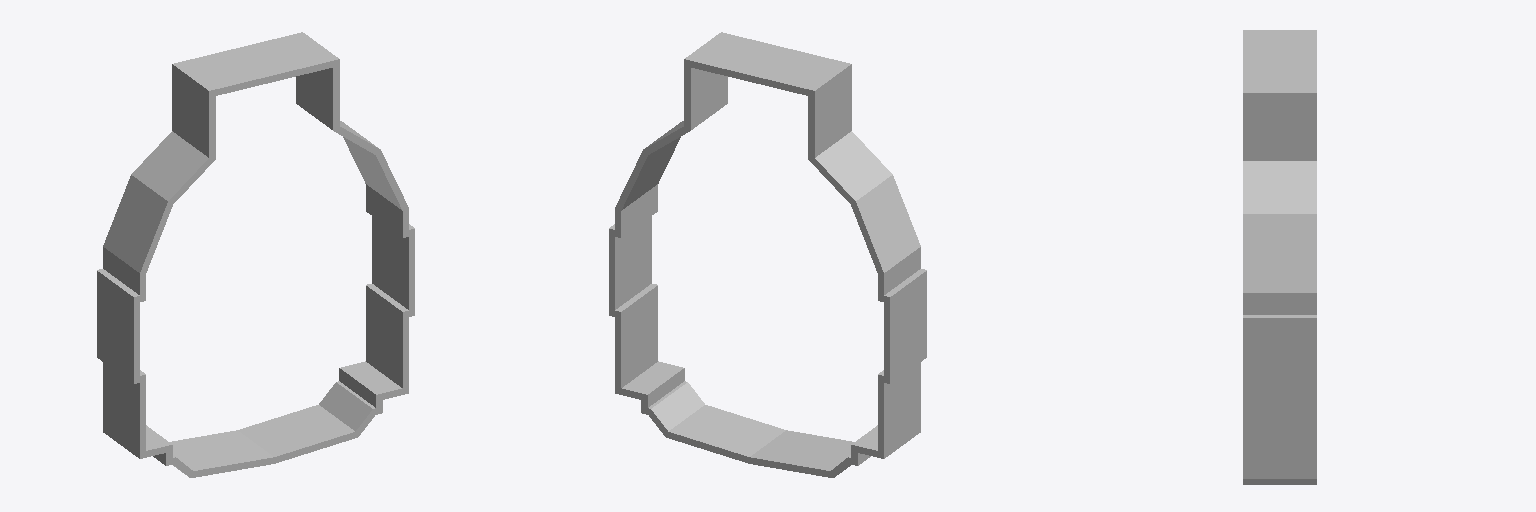
File: trainv6.obj
The picture shows the model from 3 angles: view 1: azimuth 30°, elevation 25°; view 2: azimuth 150°, elevation 25°; view 3: azimuth 270°, elevation 25°; orthographic projection.
Parts seen in each view (by area): view 1: scratch_v4; view 2: scratch_v4; view 3: scratch_v4.
Boxes of the visible parts, <box> form: scratch_v4: <box>97,32,414,477</box>; scratch_v4: <box>609,32,926,477</box>; scratch_v4: <box>1243,30,1316,484</box>.
Bounding box in the file's own units: 2.64 × 3.48 × 0.6.